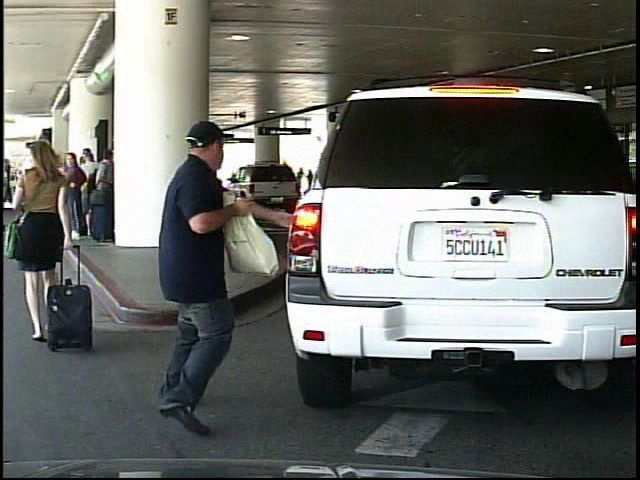person: (150, 104, 271, 430), (7, 133, 76, 353)
